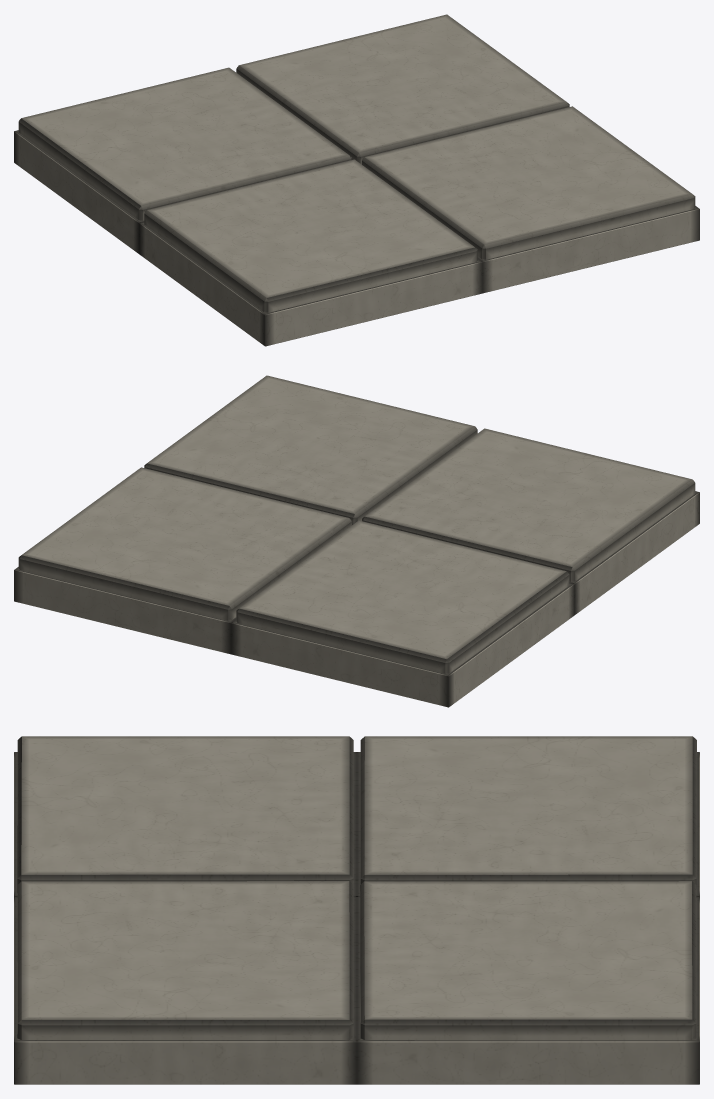
The model's file is floor_marble_b.glb.
3 renders of one model, top to bottom at view 1: azimuth 30°, elevation 25°; view 2: azimuth 150°, elevation 25°; view 3: azimuth 270°, elevation 25°, orthographic. The views are drawn at different scales.
Parts seen in each view (by area): view 1: floor_marble_b; view 2: floor_marble_b; view 3: floor_marble_b.
Boxes of the visible parts, <box> form: floor_marble_b: <box>14,14,699,346</box>; floor_marble_b: <box>14,375,699,707</box>; floor_marble_b: <box>14,736,699,1084</box>.
Bounding box in the file's own units: 1 × 0.1 × 1.
Materials: 1 (1 with a texture image).
